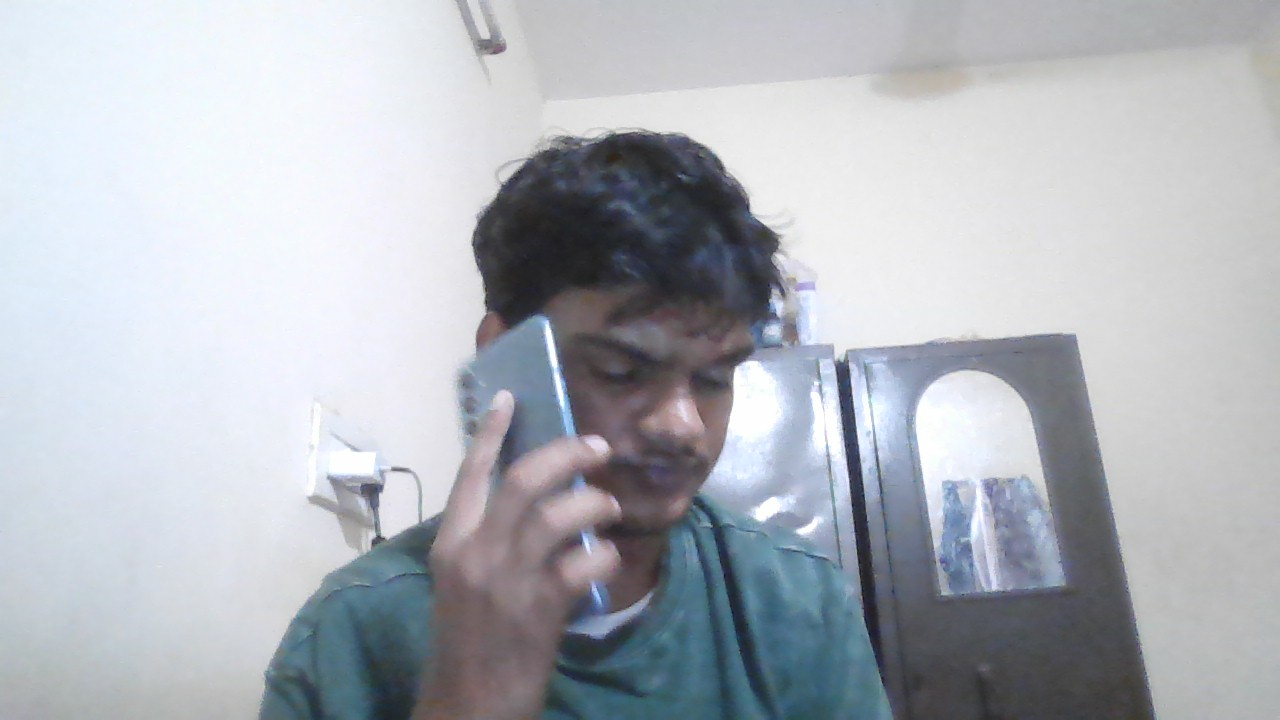phone: (448, 316, 566, 444)
